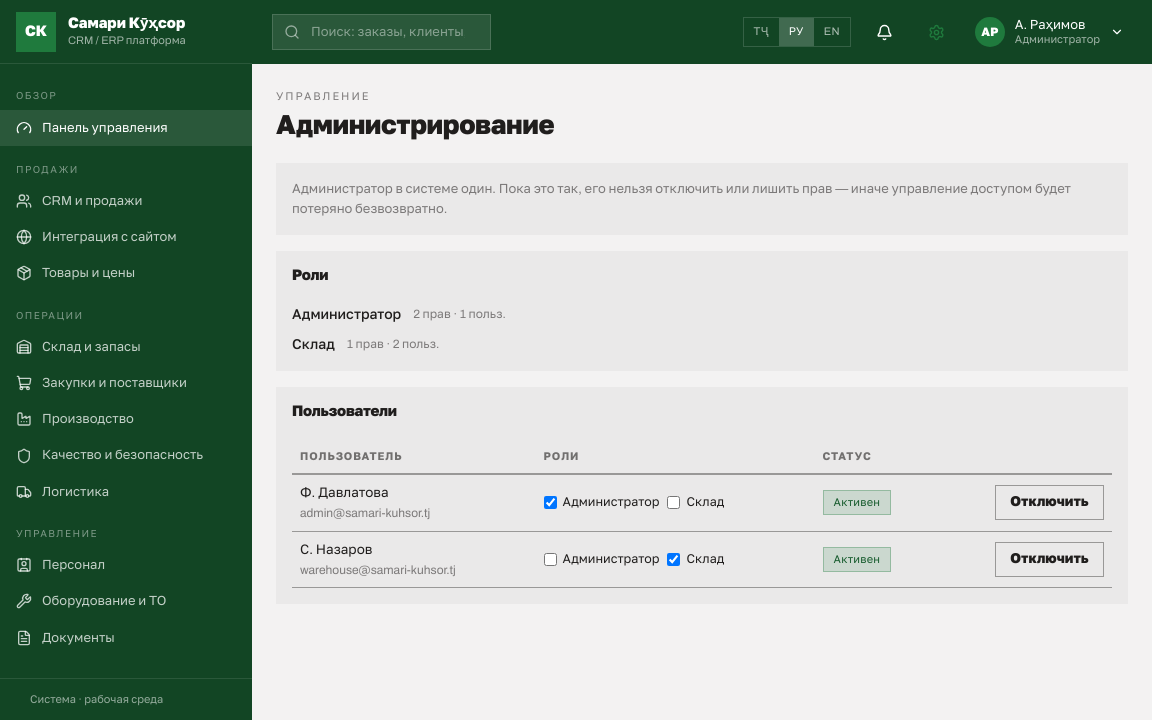
Test: Администрирование › surfaces the server refusal rather than failing silently
Expected: the text "Ф. Давлатова" is shown, [300, 485, 388, 500]
Click the button "Отключить" in the row of "Ф. Давлатова": (1049, 503) [995, 486, 1104, 520]
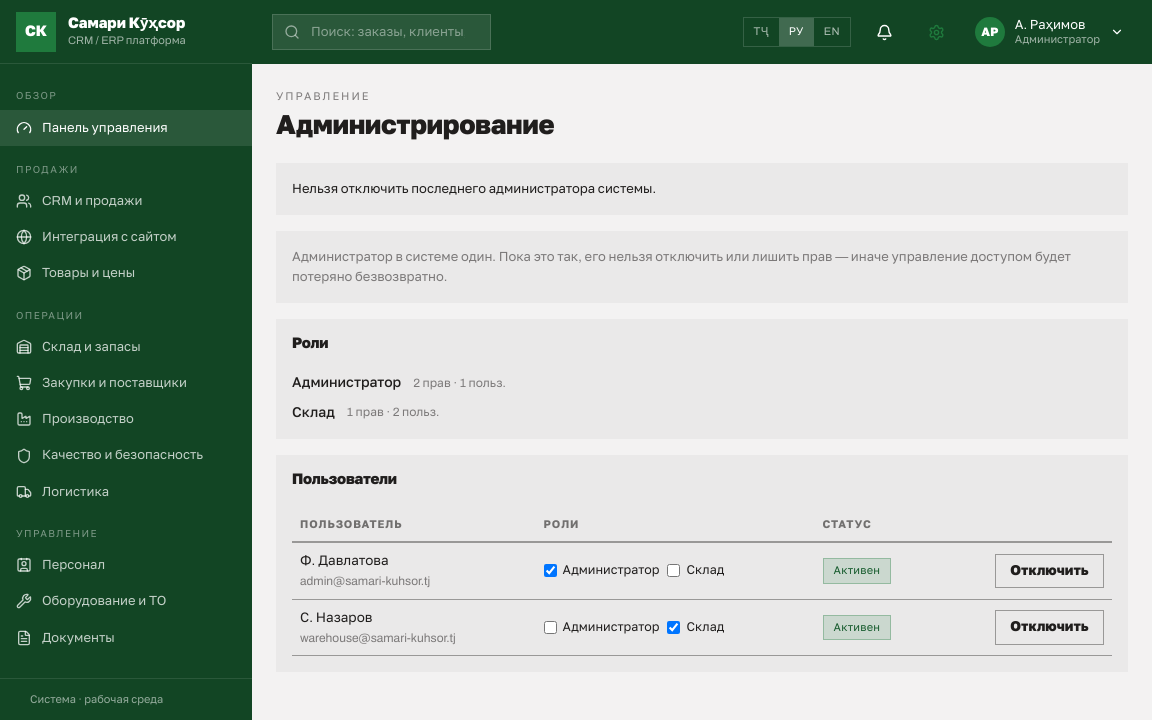
Now the message with test id "admin-error" shows "последнего администратора", box [292, 182, 656, 196]
